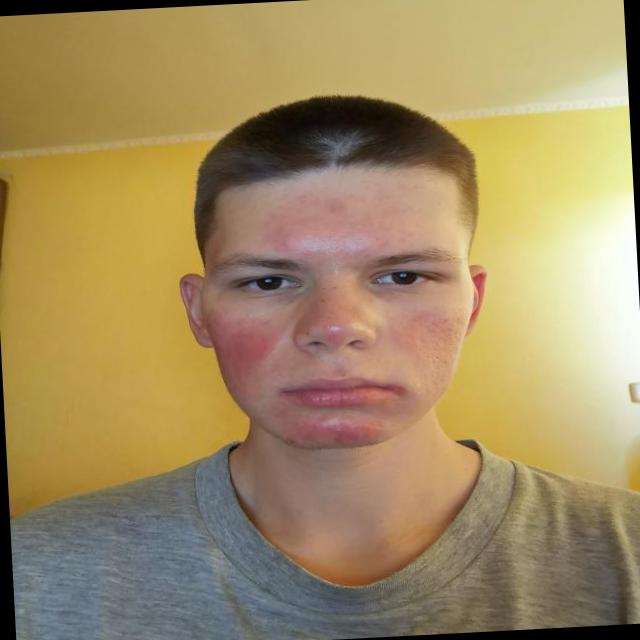redness: (262, 197, 399, 263), (205, 312, 288, 399), (394, 305, 468, 370), (280, 420, 379, 443), (321, 321, 345, 342)
